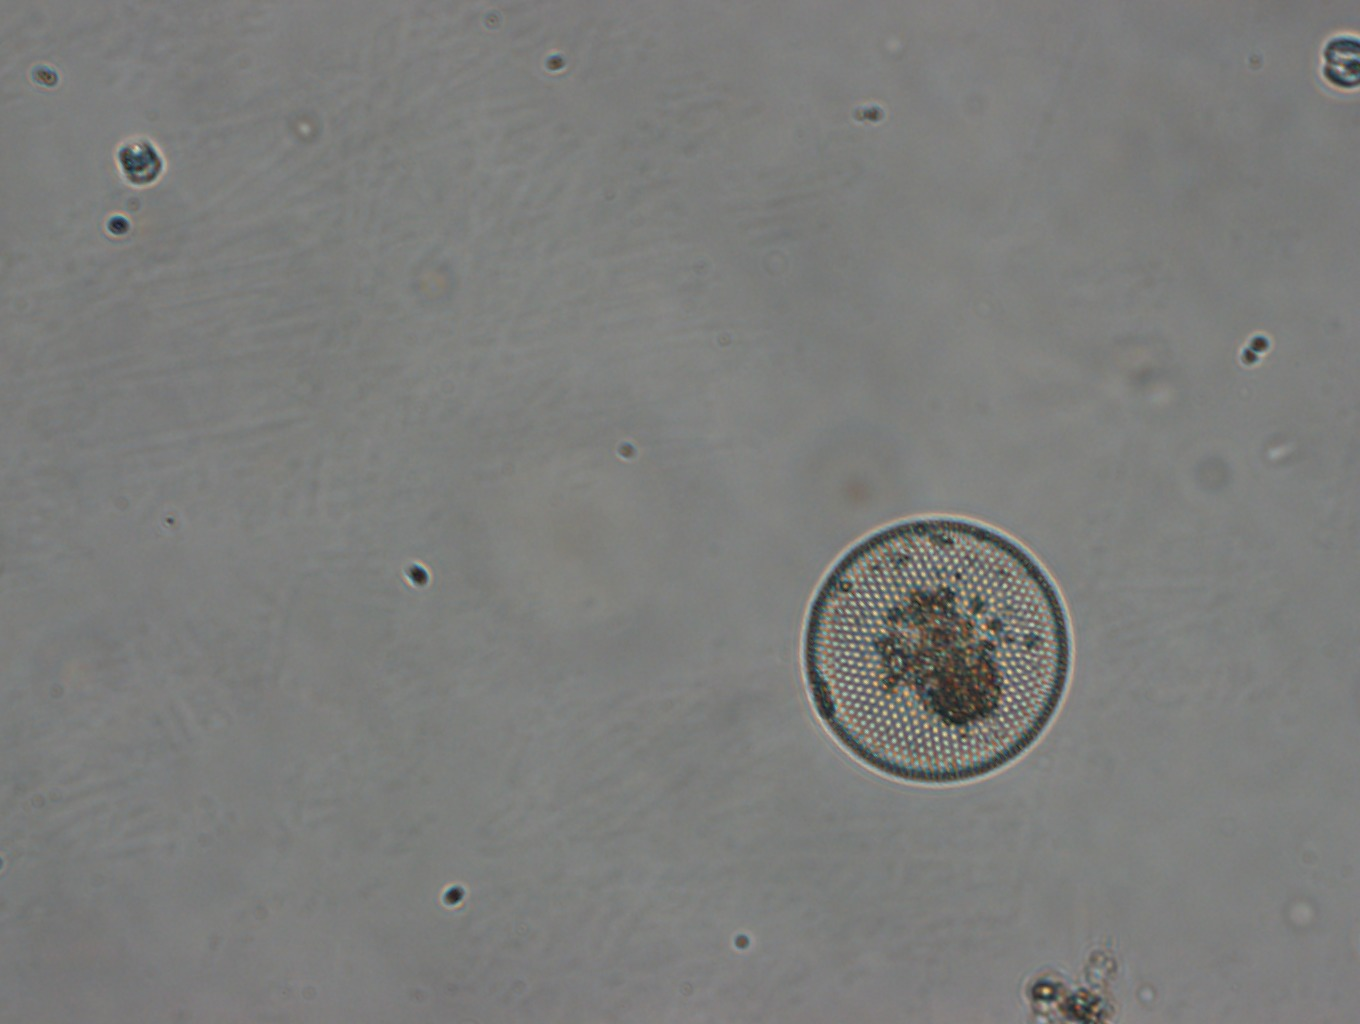coscinodiscus: (805, 517, 1072, 790)
